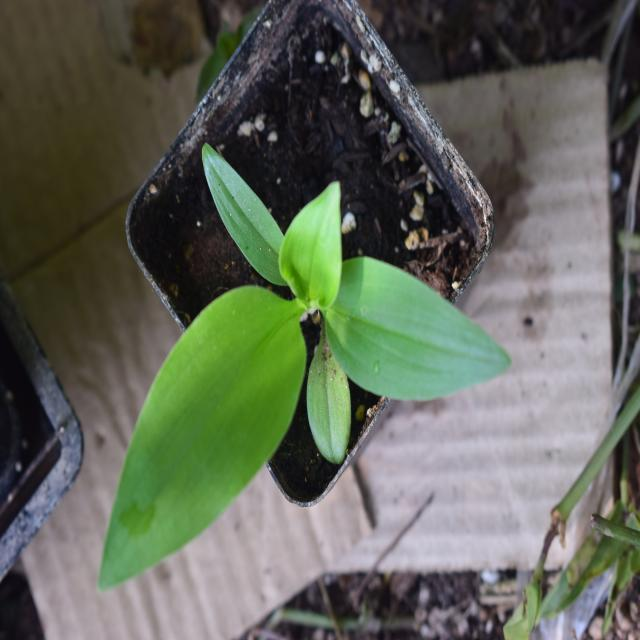Common Dayflower: (74, 177, 501, 562)
